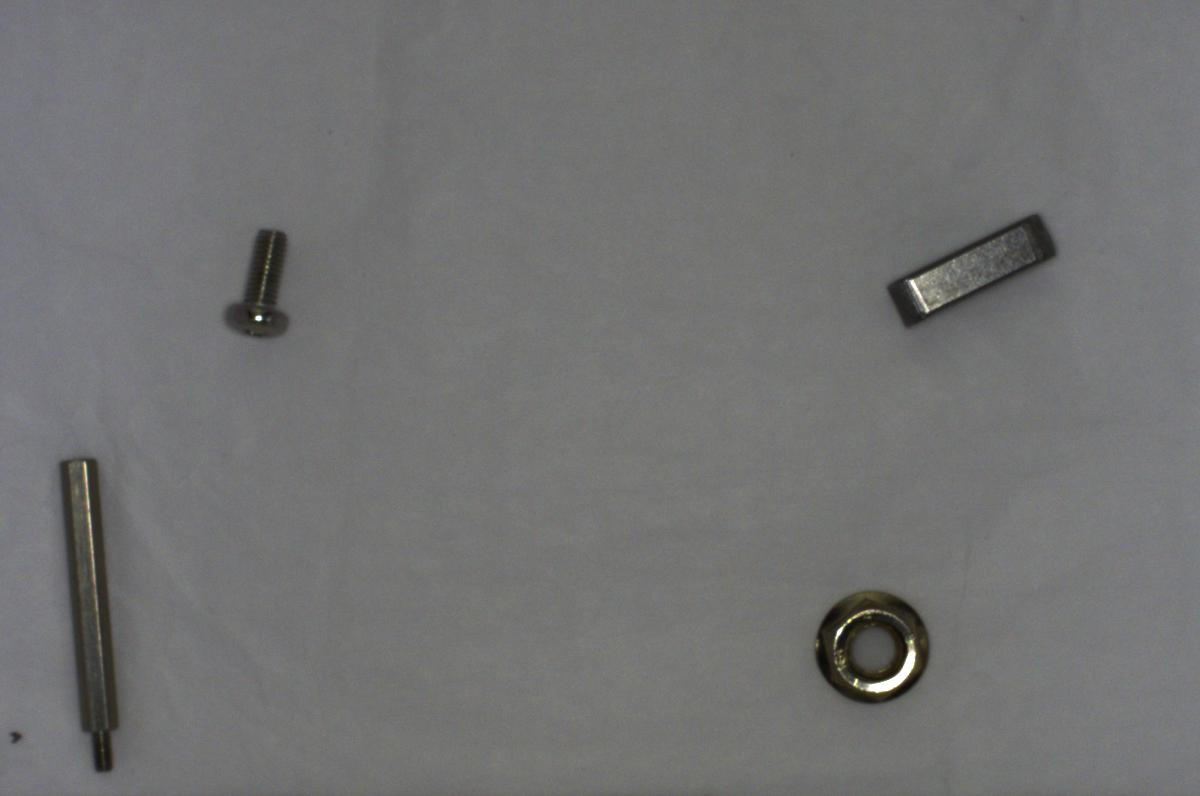Flange nut: (802, 581, 941, 707)
Hexagonal steel column: (48, 446, 135, 779)
Keybar: (880, 203, 1062, 333)
Round head screw: (222, 220, 293, 346)
